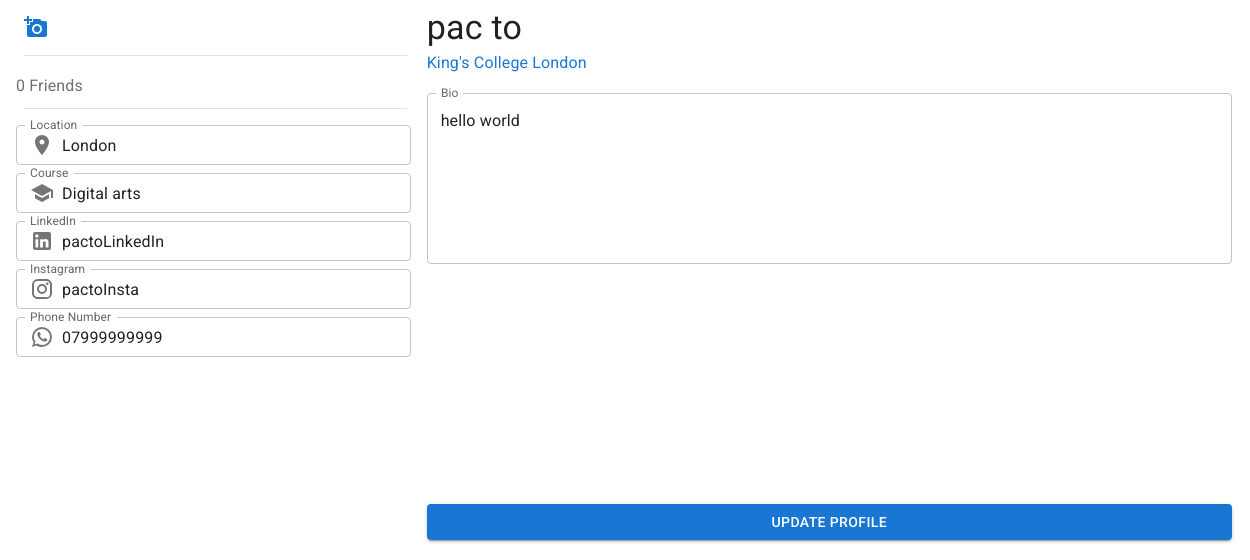
Test: Edit Profile Page Tests › Handles field errors › Shows instagram field error
Step 1. Click the button "Update Profile" → (829, 522), box left=427, top=504, right=1232, bottom=540
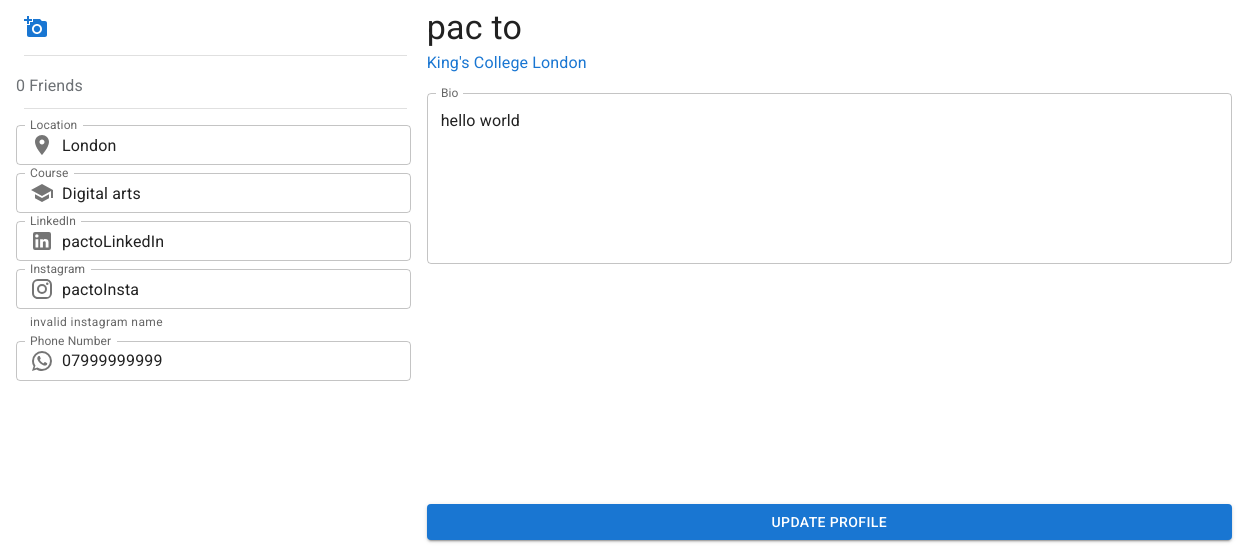
Check: the text "invalid instagram name" is shown, box left=30, top=315, right=163, bottom=329
